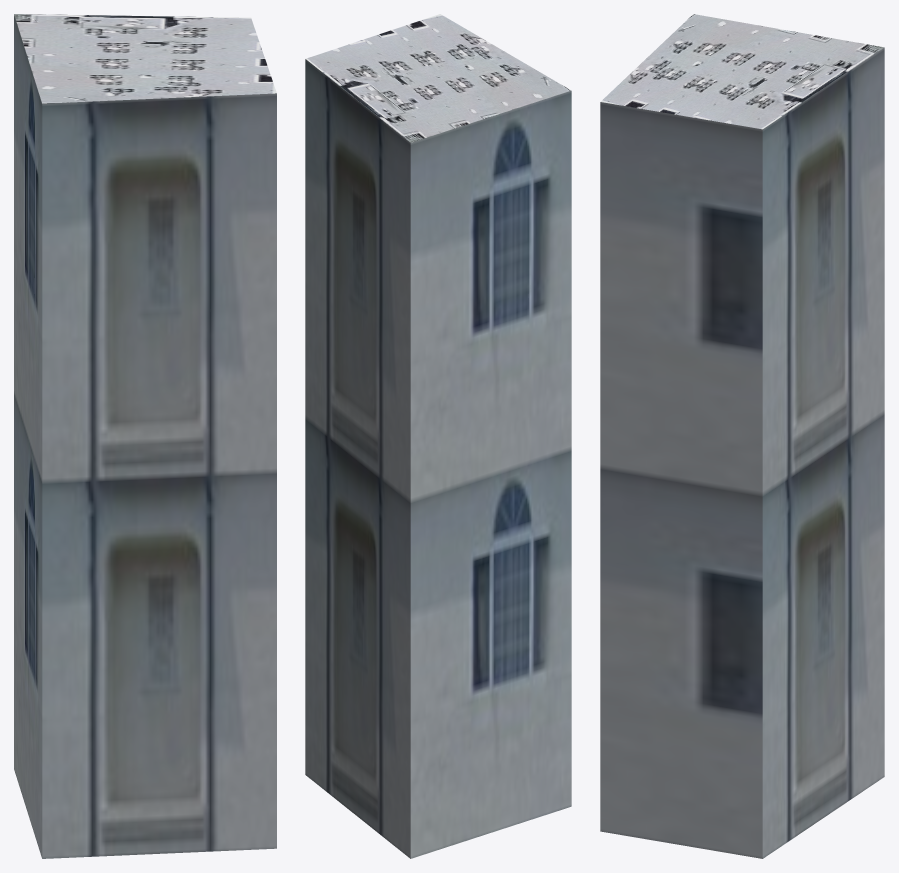
Rendered from ResTex__785.fbx.
3 views of the same model, side by side, from view 1: azimuth 30°, elevation 25°; view 2: azimuth 150°, elevation 25°; view 3: azimuth 270°, elevation 25° (orthographic). The views are drawn at different scales.
Visible parts, largest first — view 1: CityEngineMaterial_17_m, CityEngineMaterial_2_m; view 2: CityEngineMaterial_17_m, CityEngineMaterial_2_m; view 3: CityEngineMaterial_17_m, CityEngineMaterial_2_m.
Part boxes in pixels (box(x1,y1,x2,y2)): CityEngineMaterial_17_m: box(14, 14, 276, 858); CityEngineMaterial_2_m: box(14, 14, 276, 103); CityEngineMaterial_17_m: box(305, 59, 571, 858); CityEngineMaterial_2_m: box(305, 14, 570, 142); CityEngineMaterial_17_m: box(600, 47, 884, 858); CityEngineMaterial_2_m: box(601, 14, 883, 129).
Bounding box in the file's own units: 2.04 × 6 × 2.12.
2 materials, 2 textured.
